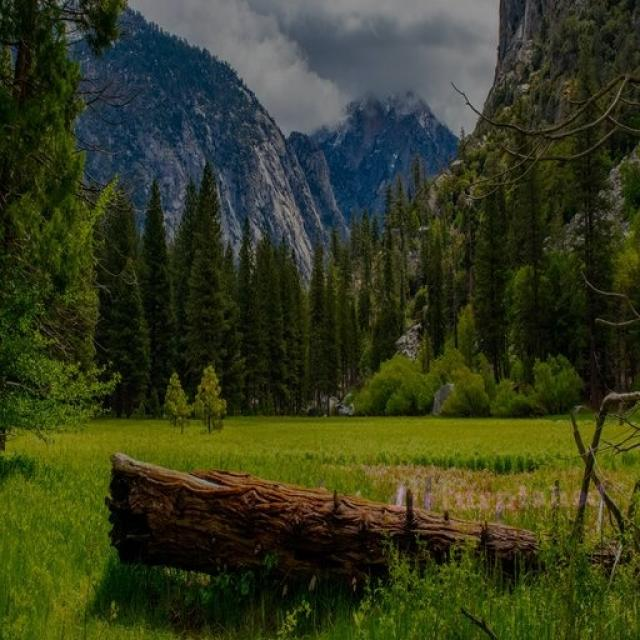watermark: (381, 483, 608, 512)
